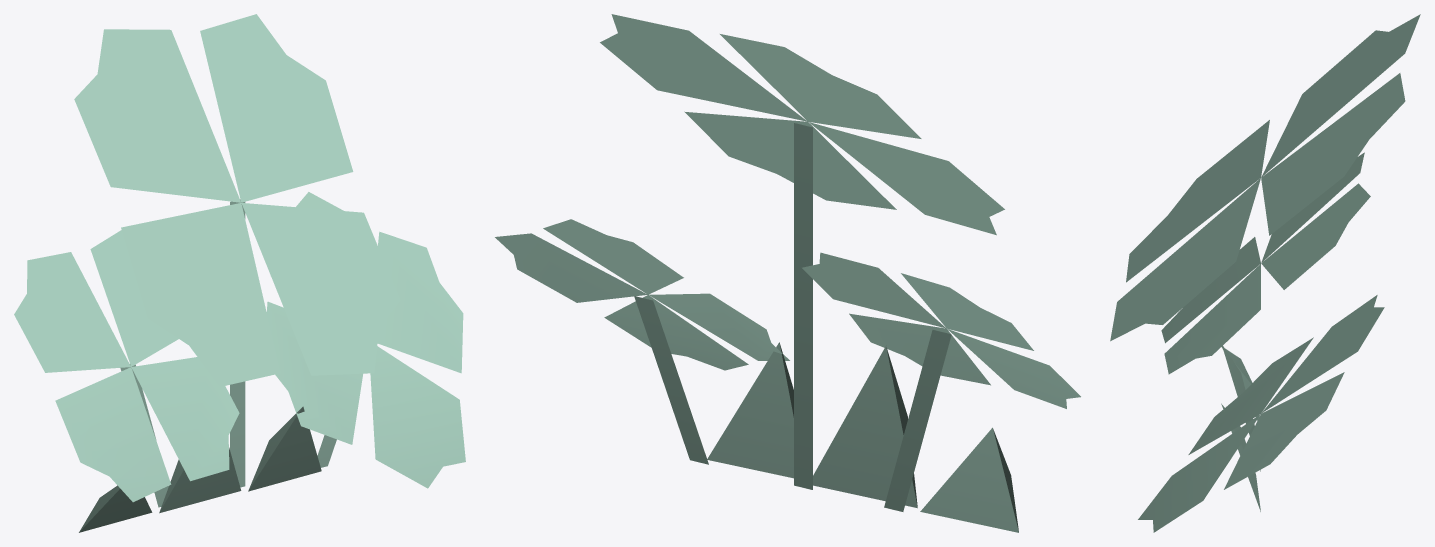
File: clover.glb
3 renders of one model, left to right at view 1: azimuth 30°, elevation 25°; view 2: azimuth 150°, elevation 25°; view 3: azimuth 270°, elevation 25°, orthographic. The views are drawn at different scales.
Parts seen in each view (by area): view 1: root_mesh; view 2: root_mesh; view 3: root_mesh.
Boxes of the visible parts, x1=… form: root_mesh: x1=14, y1=14, x2=465, y2=532; root_mesh: x1=495, y1=14, x2=1080, y2=532; root_mesh: x1=1110, y1=14, x2=1420, y2=532.
Size of the model in its own units: 0.4 by 0.3804 by 0.2496.
